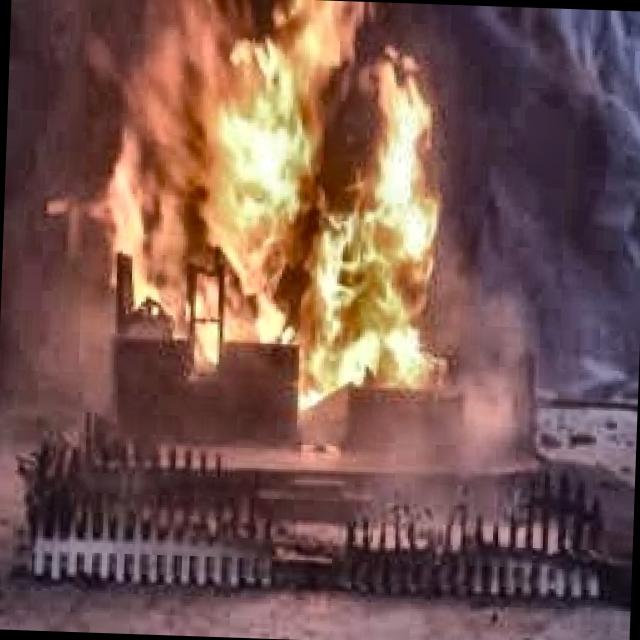fire: (59, 0, 478, 417)
